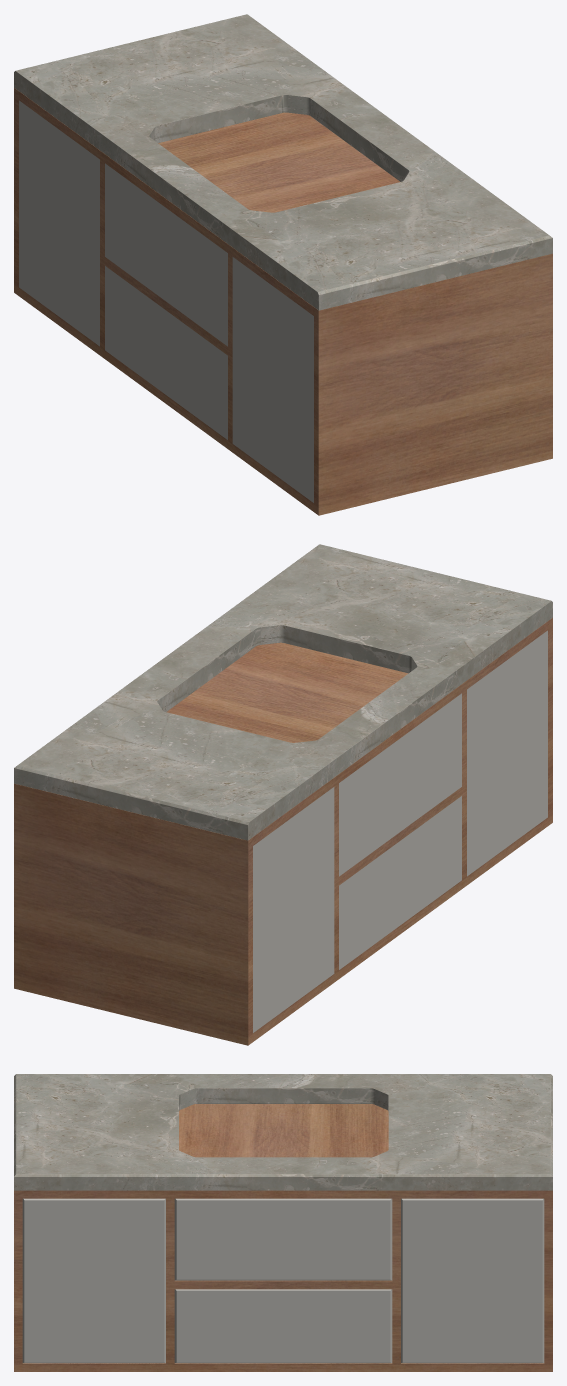
File: cupboard_bathroom.glb
3 renders of one model, top to bottom at view 1: azimuth 30°, elevation 25°; view 2: azimuth 150°, elevation 25°; view 3: azimuth 270°, elevation 25°, orthographic. The views are drawn at different scales.
Parts seen in each view (by area): view 1: cupboard_bathroom; view 2: cupboard_bathroom; view 3: cupboard_bathroom.
Part boxes in pixels (left/top/right/bottom): cupboard_bathroom: left=14, top=14, right=552, bottom=515; cupboard_bathroom: left=14, top=544, right=552, bottom=1045; cupboard_bathroom: left=14, top=1074, right=552, bottom=1371.
Size of the model in its own units: 0.55 by 0.5 by 1.24.
Materials: 3 (2 with a texture image).
